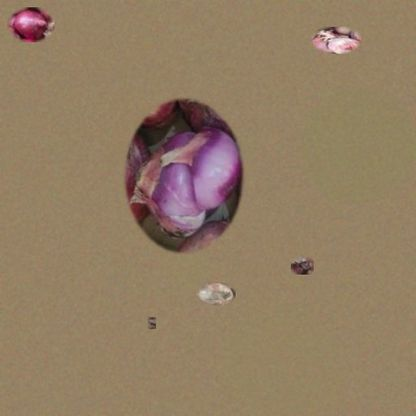damaged: (121, 93, 246, 258)
healthy: (7, 7, 54, 42)
rotten: (197, 282, 236, 306), (291, 257, 314, 275), (148, 317, 156, 329)
sprouted: (310, 27, 362, 54)
